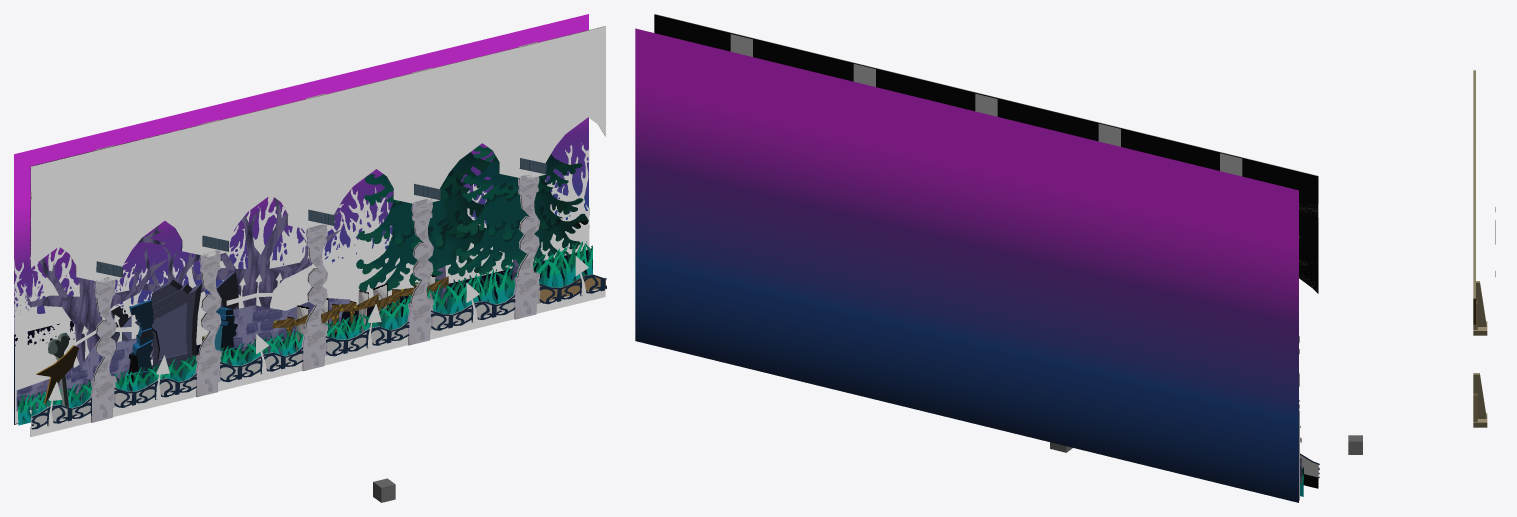
File: stg_04_3.dae
The picture shows the model from 3 angles, left to right: view 1: azimuth 30°, elevation 25°; view 2: azimuth 150°, elevation 25°; view 3: azimuth 270°, elevation 25°; orthographic projection. The views are drawn at different scales.
Parts seen in each view (by area): view 1: ue_part1, pPlane364_q00099, polySurface995_q00158, pCylinder29_q00156, pCylinder29_q00154, mori_04_part1, mori_02_part1, sita, polySurface998_q00131, polySurface1257, polySurface952_q00092, mori_03_part1 (+23 smaller); view 2: pPlane364_q00099, ue__part1, ue_part1; view 3: polySurface1250_q00068, pCube24_q00062, pCube24_q00059, pCube25.
Boxes of the visible parts, left/top/right/bottom form: ue_part1: left=31, top=26, right=605, bottom=282; pPlane364_q00099: left=14, top=14, right=588, bottom=424; polySurface995_q00158: left=18, top=241, right=592, bottom=425; pCylinder29_q00156: left=356, top=152, right=502, bottom=291; pCylinder29_q00154: left=455, top=145, right=588, bottom=276; mori_04_part1: left=199, top=184, right=589, bottom=336; mori_02_part1: left=144, top=143, right=589, bottom=317; sita: left=31, top=288, right=605, bottom=436; polySurface998_q00131: left=135, top=279, right=202, bottom=385; polySurface1257: left=191, top=197, right=341, bottom=353; polySurface952_q00092: left=26, top=225, right=167, bottom=409; mori_03_part1: left=15, top=262, right=157, bottom=371; pPlane364_q00099: left=635, top=28, right=1298, bottom=502; ue__part1: left=654, top=14, right=1318, bottom=293; ue_part1: left=655, top=14, right=1318, bottom=293; polySurface1250_q00068: left=1473, top=70, right=1475, bottom=324; pCube24_q00062: left=1473, top=373, right=1486, bottom=418; pCube24_q00059: left=1476, top=281, right=1486, bottom=326; pCube25: left=1348, top=435, right=1362, bottom=454.
Size of the model in its own units: 40.02 by 23.5 by 10.5.
